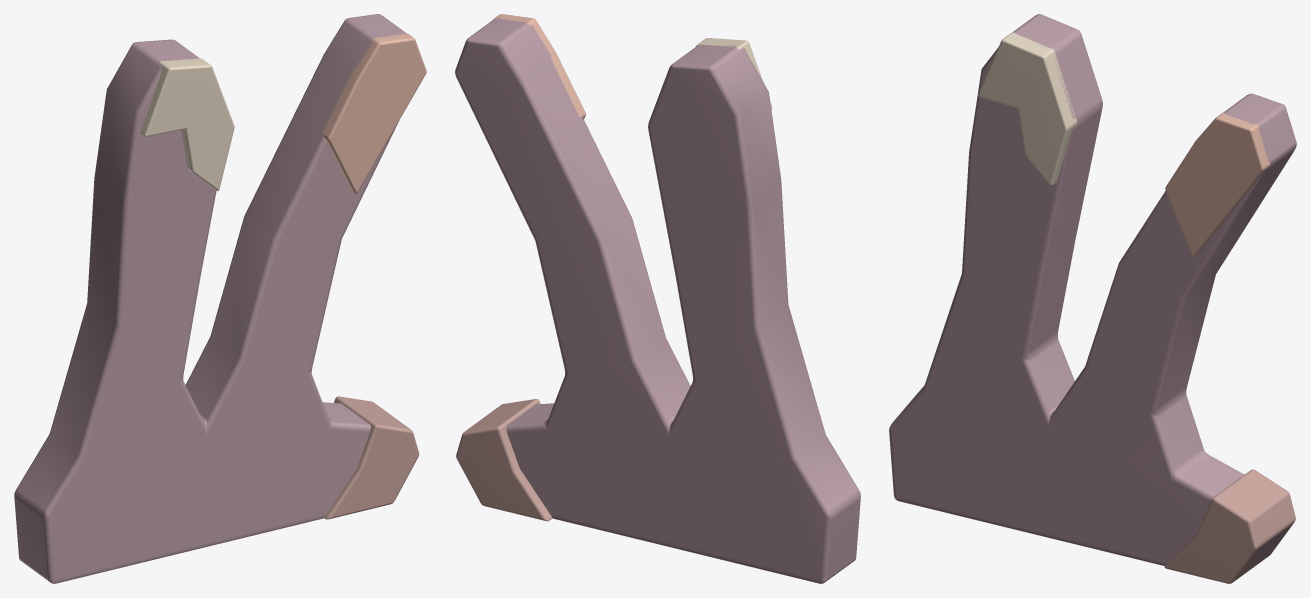
File: unequal-tine-oracle.glb
The picture shows the model from 3 angles, left to right: view 1: azimuth 30°, elevation 25°; view 2: azimuth 150°, elevation 25°; view 3: azimuth 330°, elevation 25°; orthographic projection.
Visible parts, largest first — view 1: one_piece_unequal_fork, right_tine_contact_shoe, left_tine_ceramic_striker, load_bearing_offset_heel; view 2: one_piece_unequal_fork, load_bearing_offset_heel, right_tine_contact_shoe, left_tine_ceramic_striker; view 3: one_piece_unequal_fork, right_tine_contact_shoe, load_bearing_offset_heel, left_tine_ceramic_striker.
Boxes of the visible parts, <box> form: one_piece_unequal_fork: <box>14,14,406,583</box>; right_tine_contact_shoe: <box>322,33,426,194</box>; left_tine_ceramic_striker: <box>140,58,234,190</box>; load_bearing_offset_heel: <box>324,396,419,519</box>; one_piece_unequal_fork: <box>455,17,860,583</box>; load_bearing_offset_heel: <box>456,399,552,521</box>; right_tine_contact_shoe: <box>493,14,585,119</box>; left_tine_ceramic_striker: <box>695,38,772,109</box>; one_piece_unequal_fork: <box>889,14,1296,566</box>; right_tine_contact_shoe: <box>1165,113,1270,257</box>; load_bearing_offset_heel: <box>1164,469,1295,583</box>; left_tine_ceramic_striker: <box>978,32,1077,185</box>.
Bounding box in the file's own units: 213 × 264 × 42.
